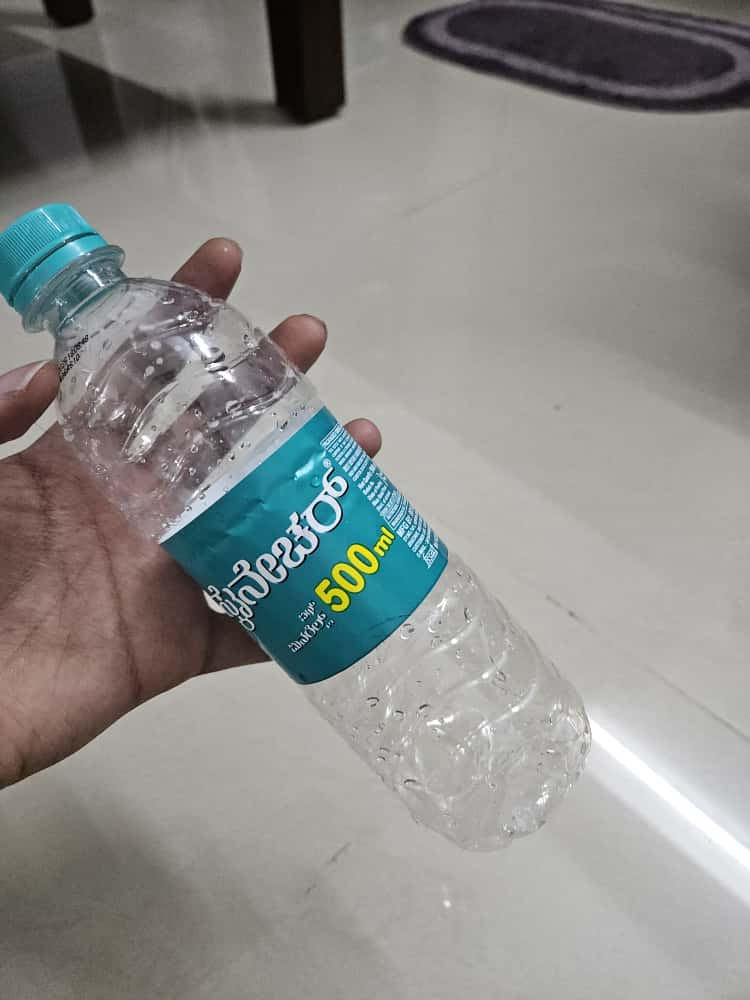dry: (1, 129, 608, 889)
